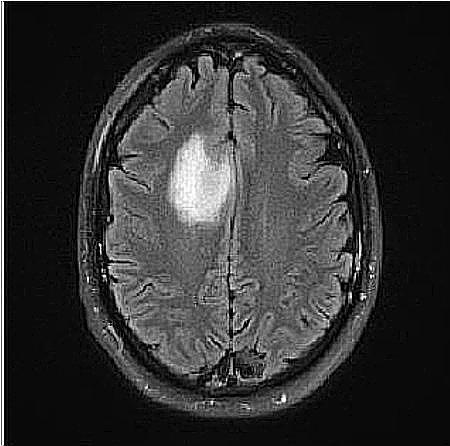Tumor: (160, 129, 232, 225)
